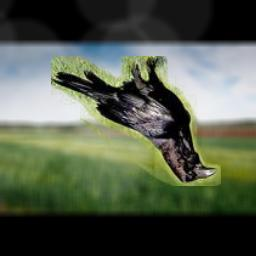Crow: (51, 56, 221, 186)
